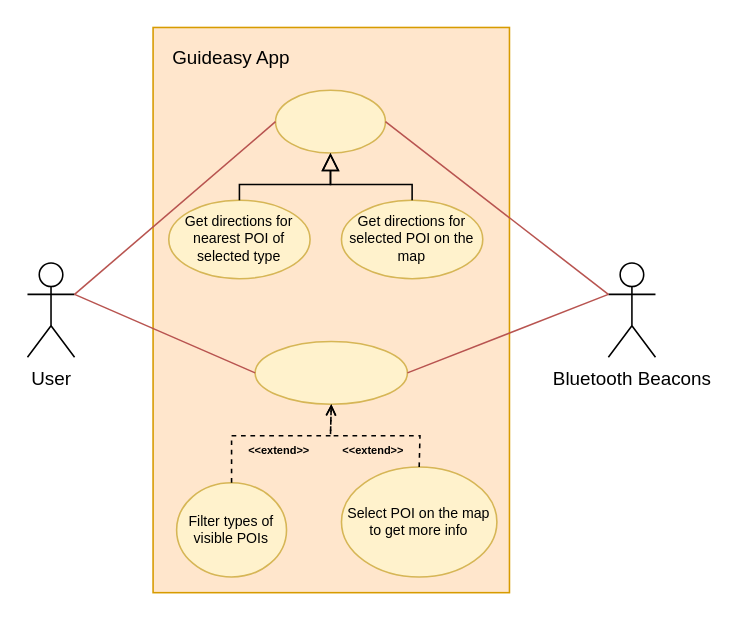
Some shapes in this 738 by 620 pixel diagram are drawn without their labels. Each missing label, with the centre of its shape:
Get directions for POI: point 329,121
Visualize event map with POIs: point 330,372
